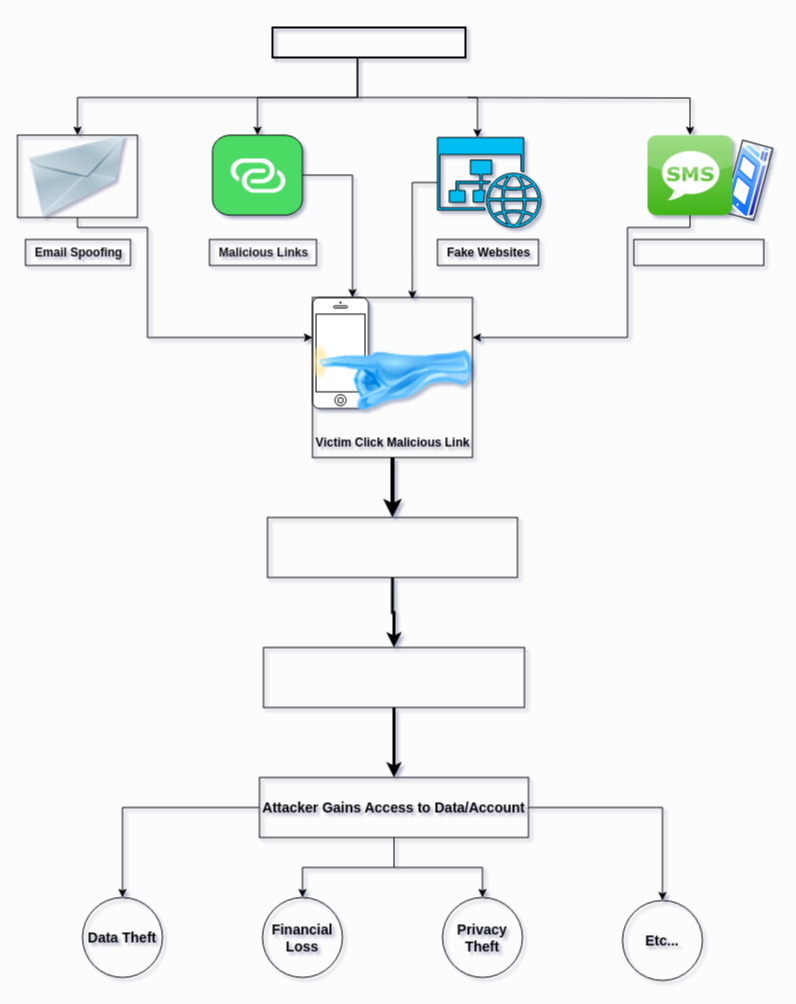
Image size: 796x1004. Some labels were removed from this diagram. Here are the shapes that lost their labels. From the top down, the centre of each, then its label:
pixel 368 42: PHISHING ATTACK
pixel 698 252: Smishing & Vishing
pixel 392 547: Redirect to Fake Login Page or Malware
pixel 393 677: Victim Enters Credentials
